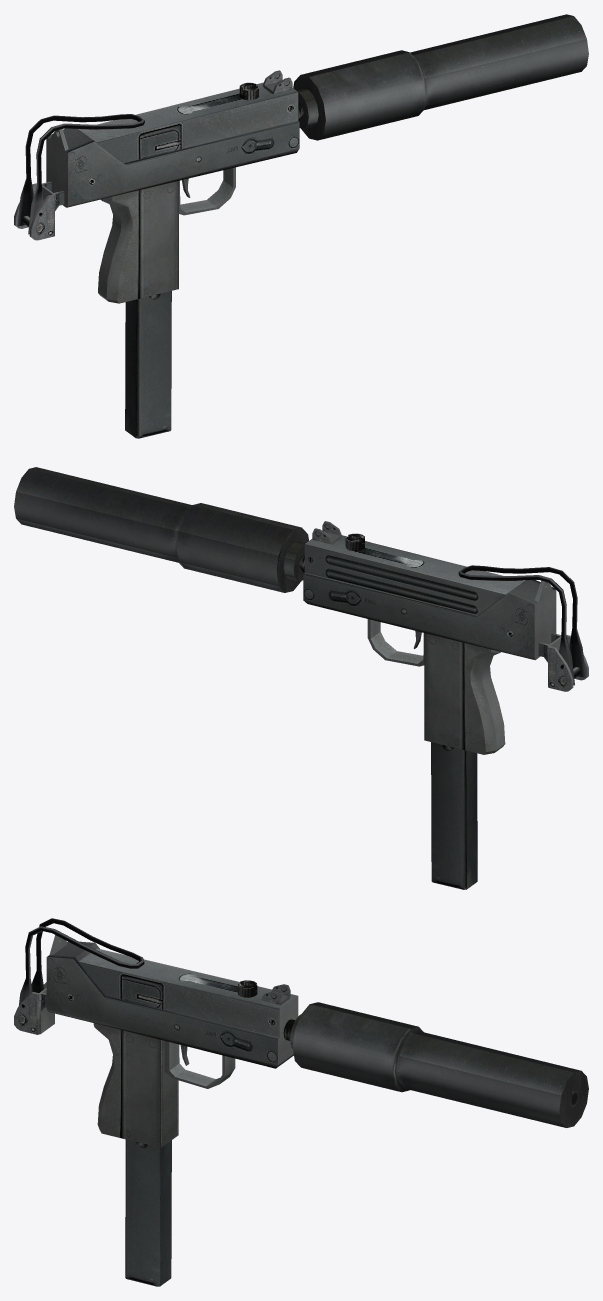
The model's file is minigun_000020.obj.
3 renders of one model, top to bottom at view 1: azimuth 30°, elevation 25°; view 2: azimuth 150°, elevation 25°; view 3: azimuth 330°, elevation 25°, orthographic.
Visible parts, largest first — view 1: Box02; view 2: Box02; view 3: Box02.
Part boxes in pixels (left/top/right/bottom): Box02: left=14, top=14, right=588, bottom=438; Box02: left=14, top=467, right=588, bottom=889; Box02: left=14, top=918, right=588, bottom=1286.
Bounding box in the file's own units: 0.7644 × 0.44 × 0.0814.
1 material, 1 textured.
